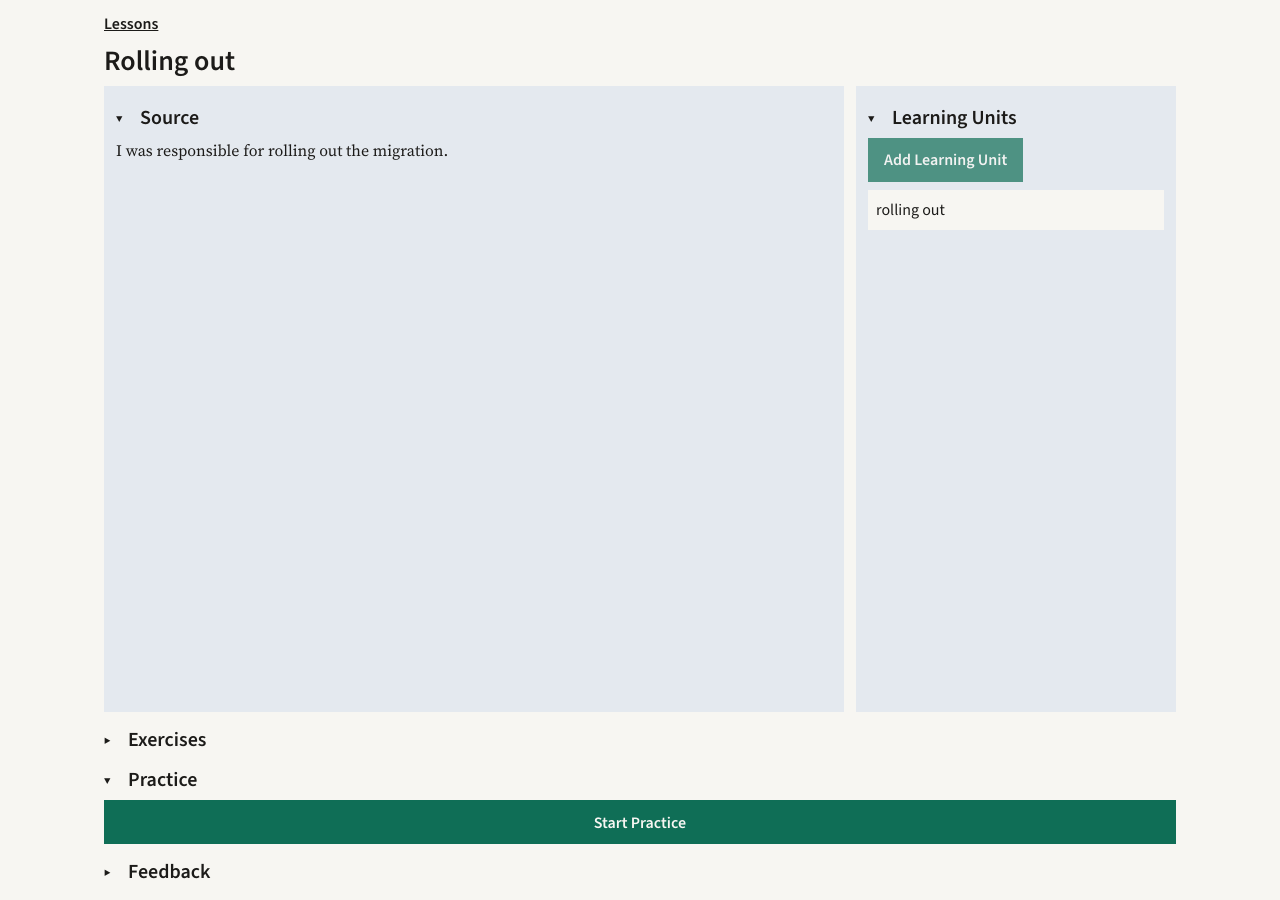
Scenario: Lesson workspace shell › labels an early Exit as left early and keeps the older session separate
Click the button "Start Practice".
click(640, 822)  # box [104, 800, 1176, 844]
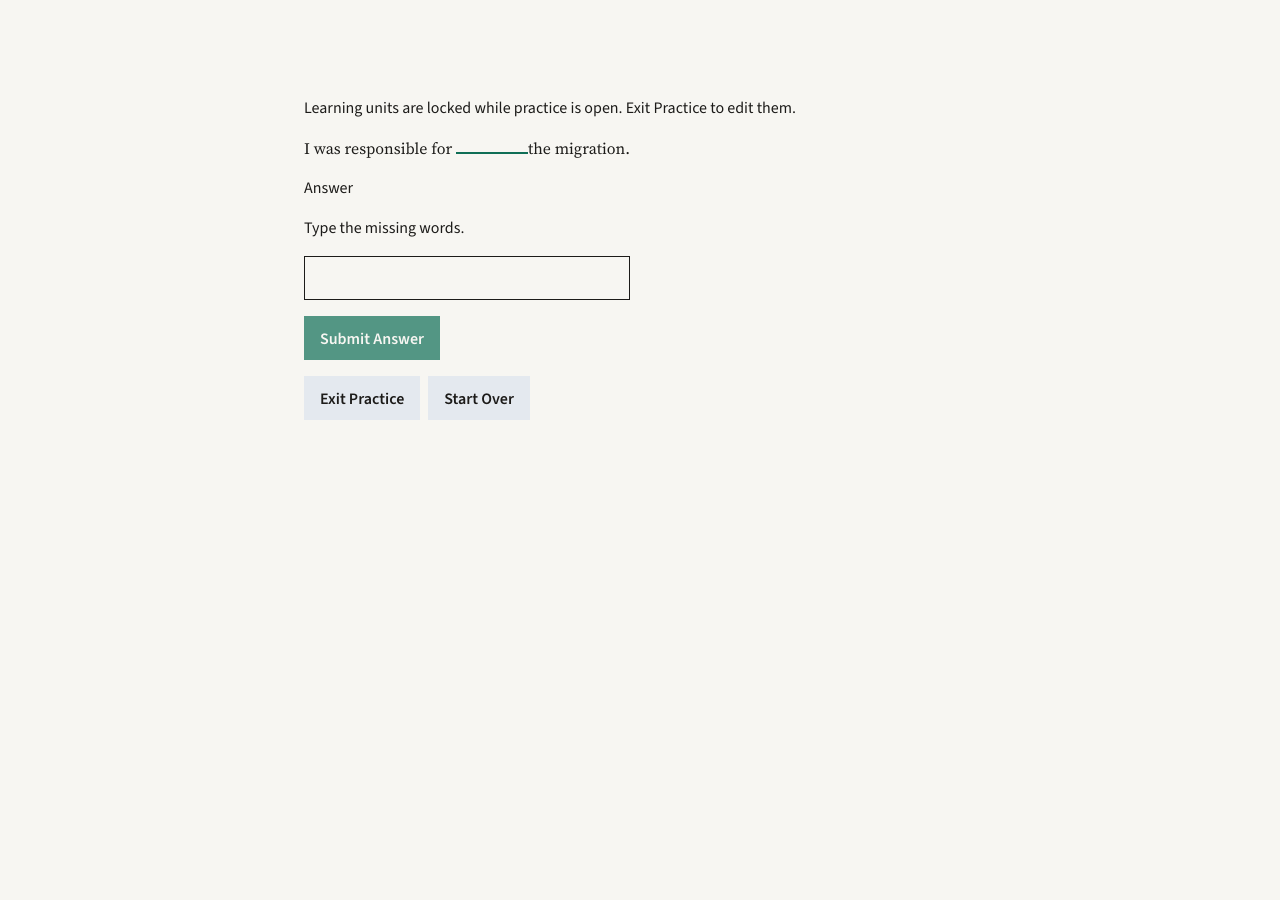
Click the button "Exit Practice".
click(362, 398)  # box [304, 376, 420, 420]
(page scrolled)
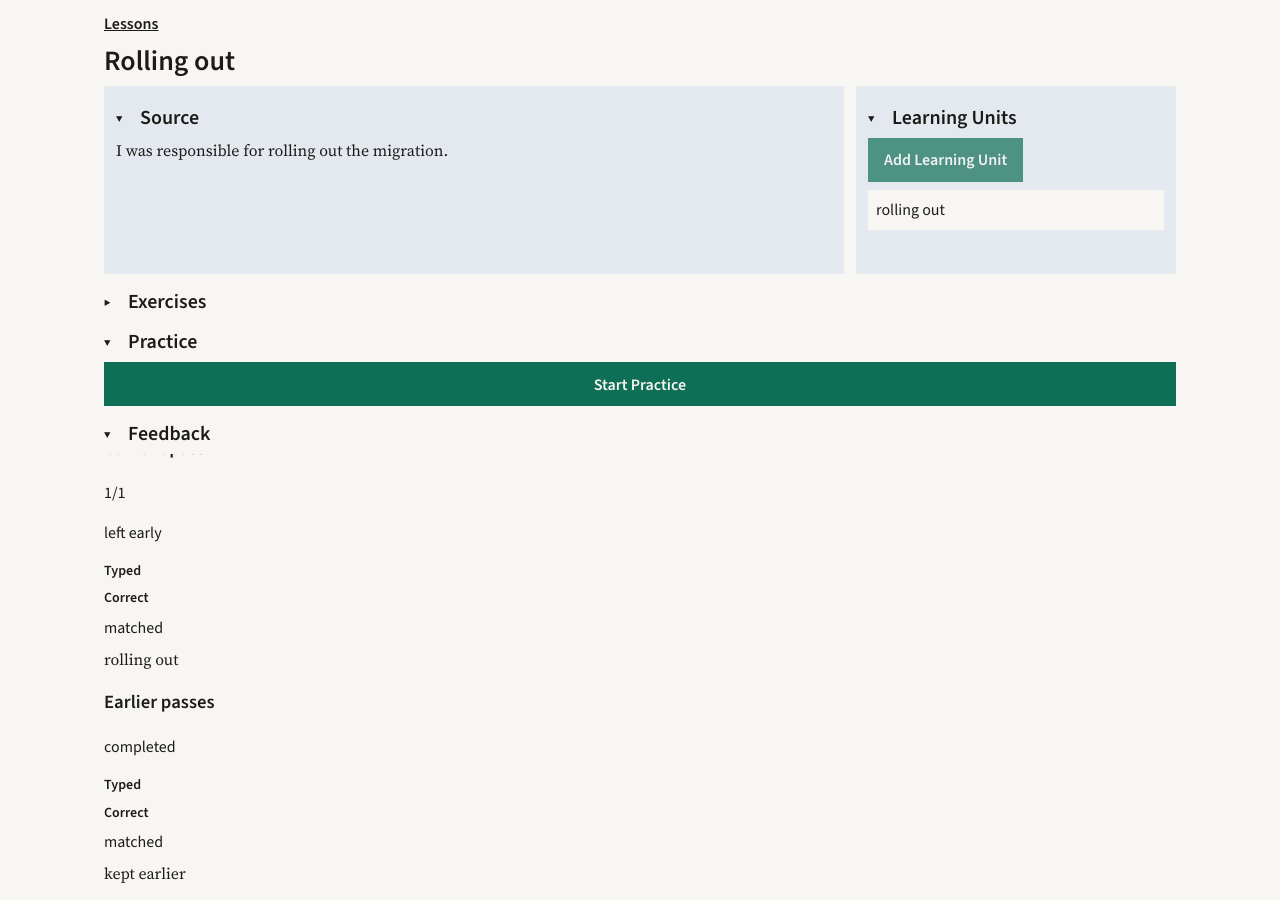
Check: the element "Current pass" shows "1/1", box [104, 482, 126, 502]
Check: the element "Current pass" shows "left early", box [104, 522, 162, 542]
Check: the element "Earlier passes" shows "kept earlier", box [104, 862, 186, 884]
